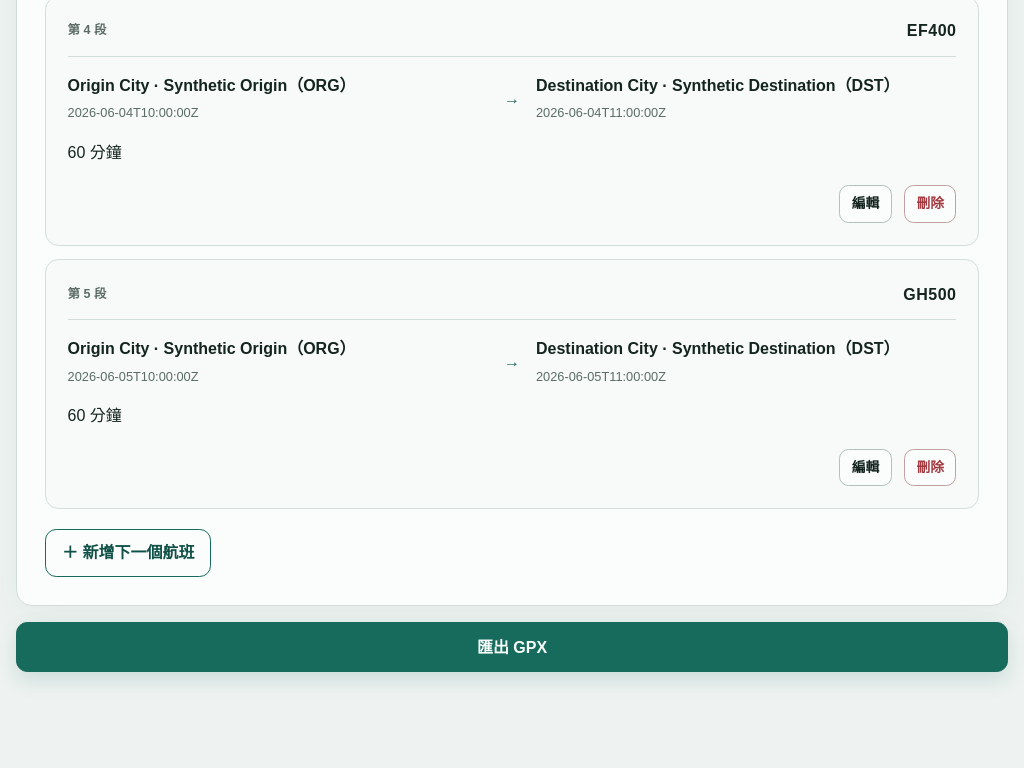
Test: FlightPage › keeps one source row matched to each successful flight
This screenshot has width=1024, height=768.
(page scrolled)
Click the button "匯出 GPX": click(512, 648) [16,622,1008,672]
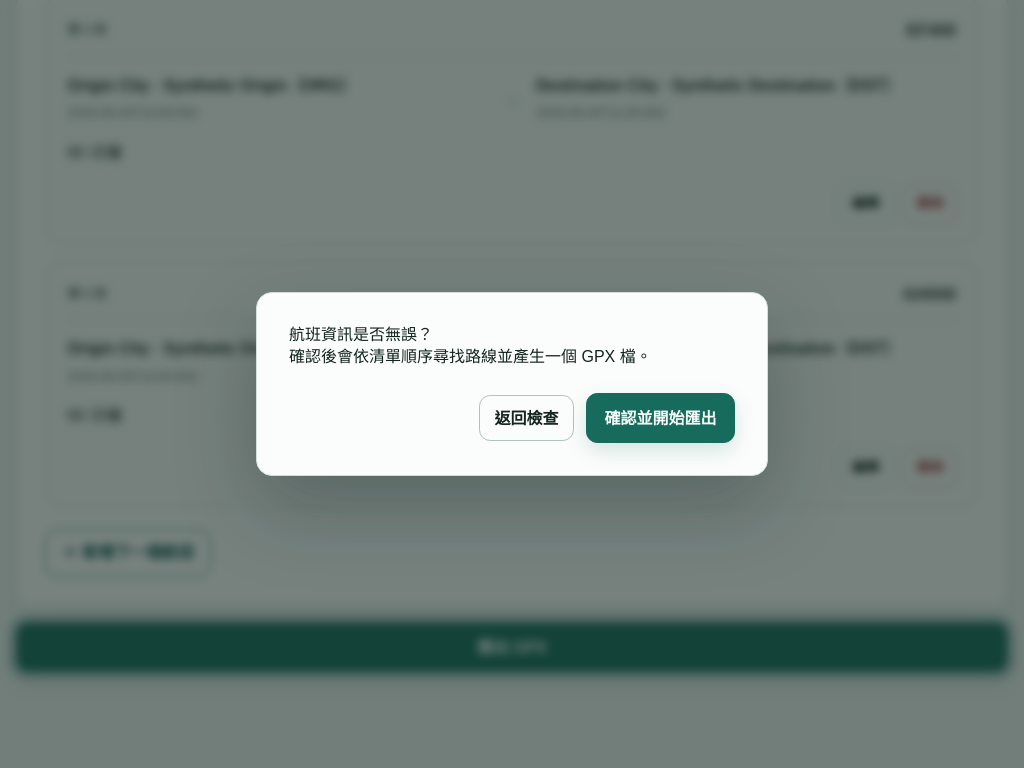
Click the button "確認並開始匯出": click(660, 418) [586,393,735,443]
(page scrolled)
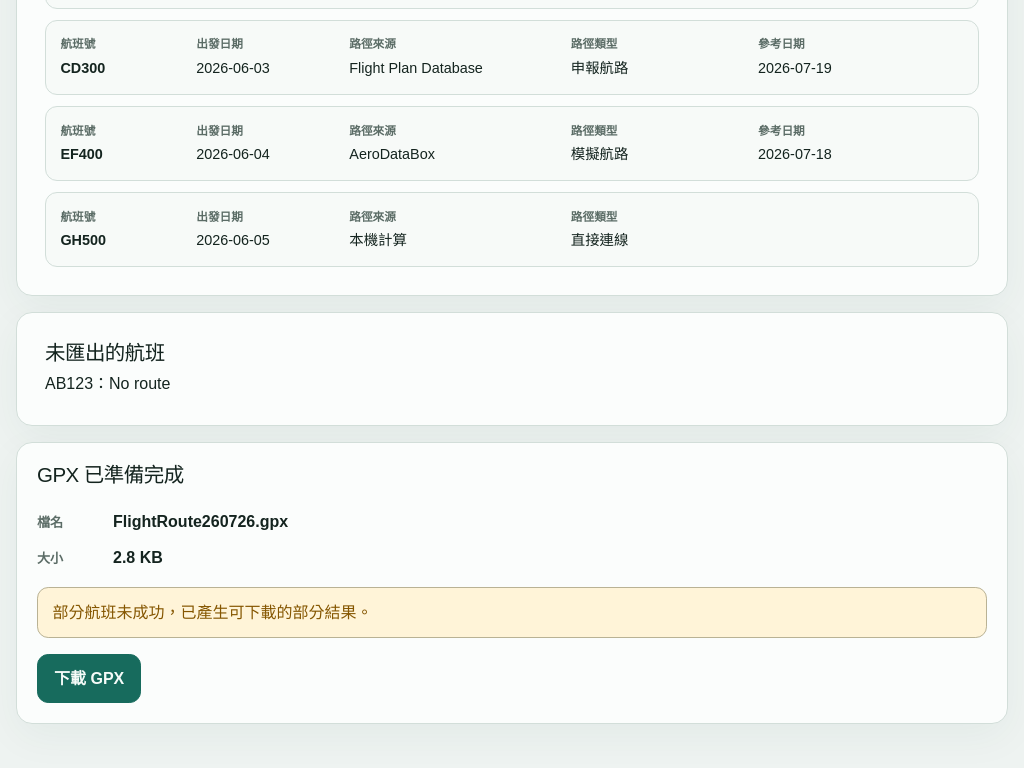
Expected: the list item "航班號 GH500 出發日期 2026-06-05 路徑來源 本機計算 路徑類型 直接連線" does not show "參考日期", [45,192,979,267]
Expected: the list item "AB123：No route" is shown, [45,375,170,392]
